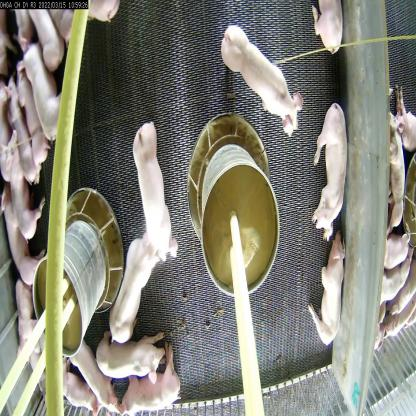Pig: (216, 14, 310, 138), (128, 115, 183, 259), (310, 96, 351, 242), (101, 236, 158, 337), (0, 123, 46, 248), (112, 344, 186, 415), (0, 187, 47, 284), (25, 38, 67, 146), (63, 335, 121, 412), (15, 60, 51, 180), (310, 234, 346, 353), (4, 81, 40, 189), (98, 332, 166, 386), (386, 108, 414, 233), (52, 358, 102, 416), (9, 274, 35, 365), (309, 0, 348, 59)
